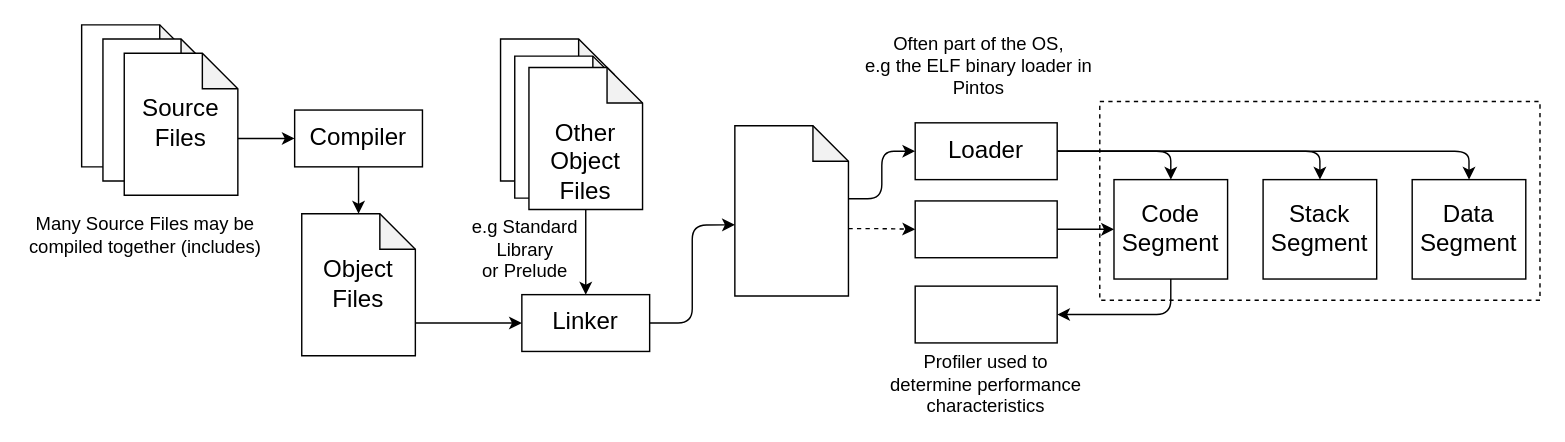
Some shapes in this 1565 by 442 pixel diagram are drawn without their labels. Here are the shapes that lost their labels. From the top down, the box of each, then its label:
(733, 124, 848, 296): Program Object File
(1098, 100, 1540, 300): Process Address Space
(914, 200, 1057, 258): Debugger
(914, 285, 1057, 343): Profiler
